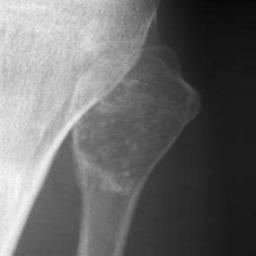cancer: (71, 46, 203, 199)
